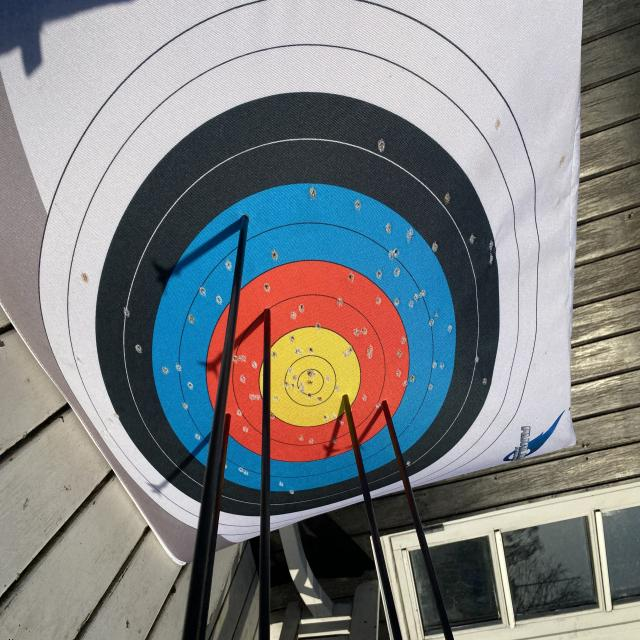Arrow_Blue: (225, 192, 273, 248)
Arrow_Red: (249, 295, 295, 342), (216, 401, 251, 447), (373, 383, 401, 423)
Arrow_Yellow: (332, 377, 359, 419)
